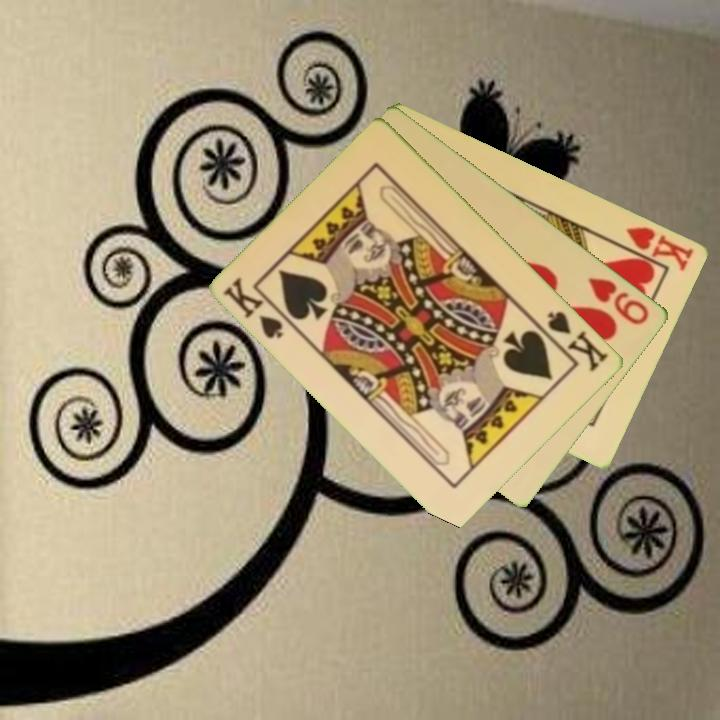9h: (584, 273, 653, 328)
Kh: (612, 222, 698, 274)
Ks: (220, 273, 297, 342), (535, 307, 613, 375)
